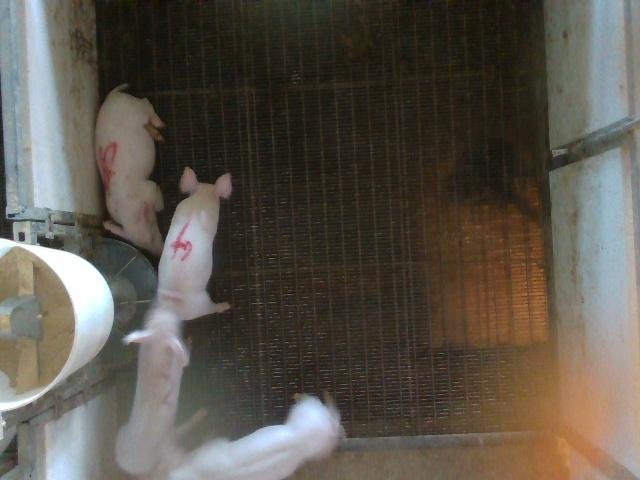pig-2: (116, 308, 189, 475)
pig-4: (156, 168, 231, 320)
pig-5: (96, 84, 165, 256)
